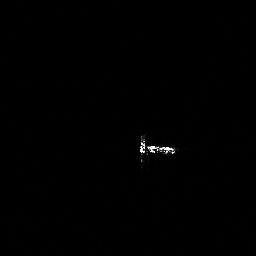ship: (139, 134, 177, 160)
